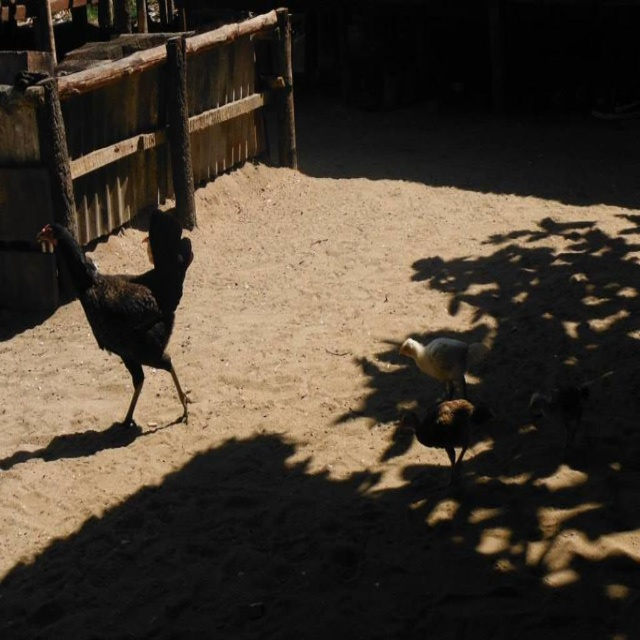Chicken: (39, 208, 192, 429), (419, 389, 485, 467)
